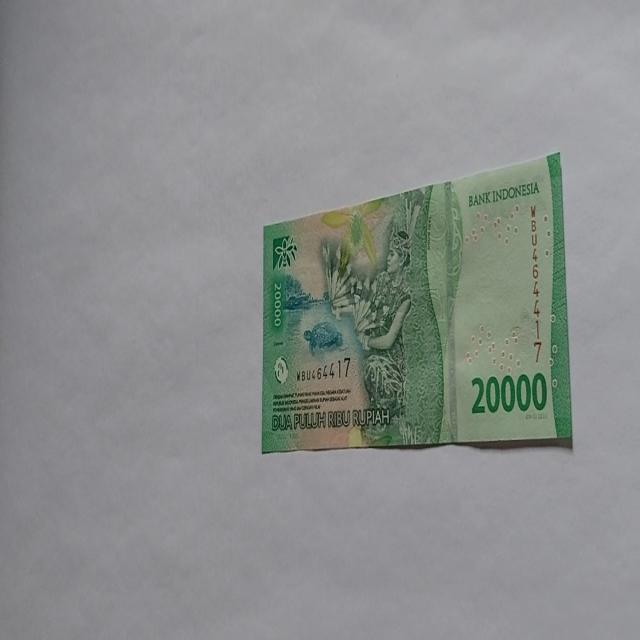dua puluh ribu rupiah: (261, 150, 574, 454), (319, 181, 463, 447)
